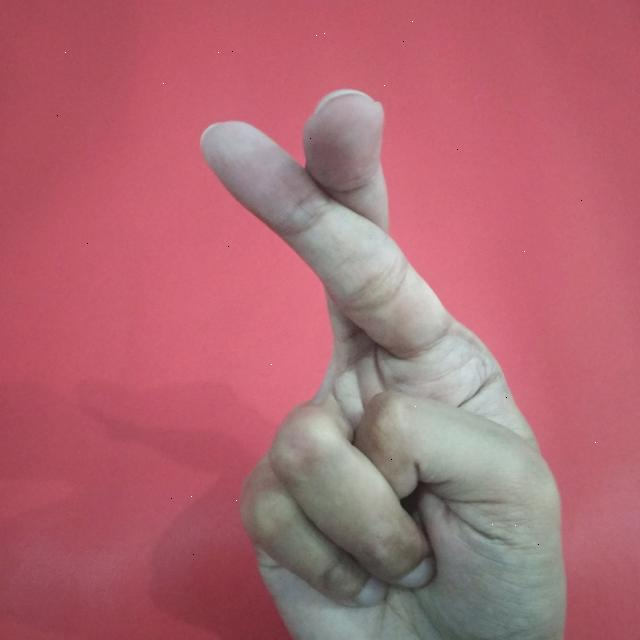R: (196, 82, 575, 640)
